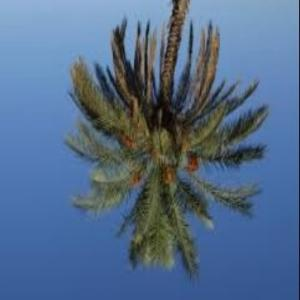palm tree: (63, 0, 269, 283)
